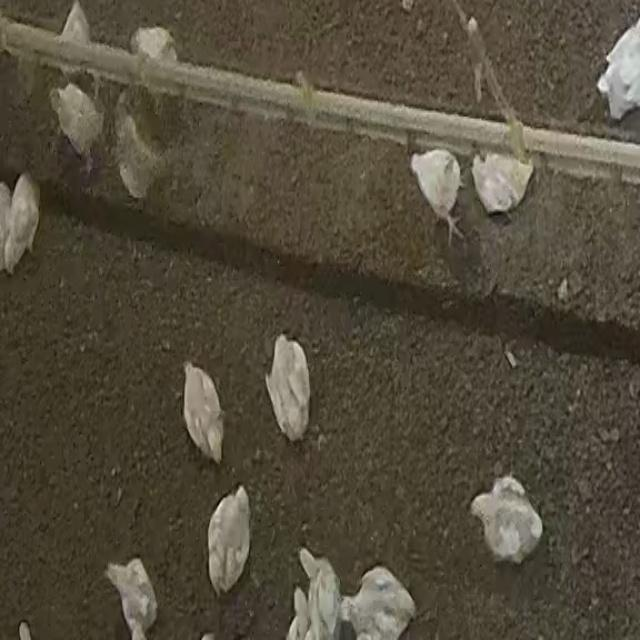chicken: (471, 476, 544, 569), (344, 565, 416, 639), (206, 484, 251, 599), (266, 332, 309, 445), (116, 102, 164, 200), (182, 361, 226, 467), (597, 18, 640, 121), (104, 558, 157, 639), (471, 148, 533, 215), (51, 80, 102, 161), (1, 170, 39, 272), (409, 147, 458, 226), (301, 546, 340, 640), (131, 25, 178, 65), (60, 1, 94, 48)
